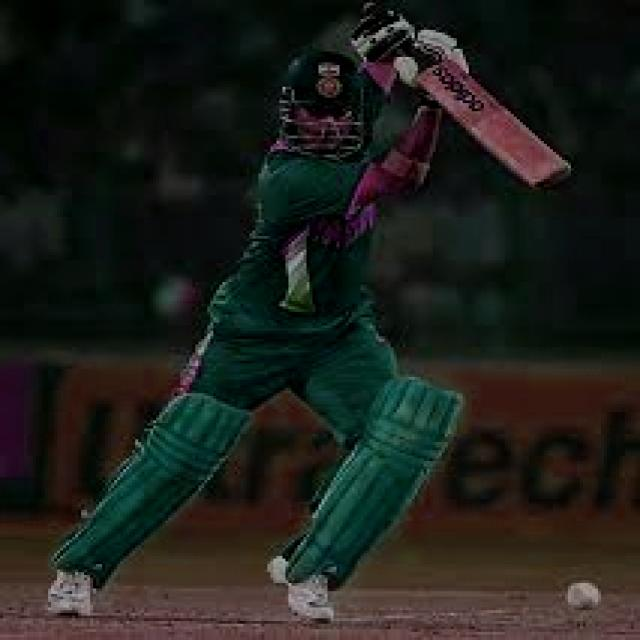toe: (500, 140, 578, 196)
